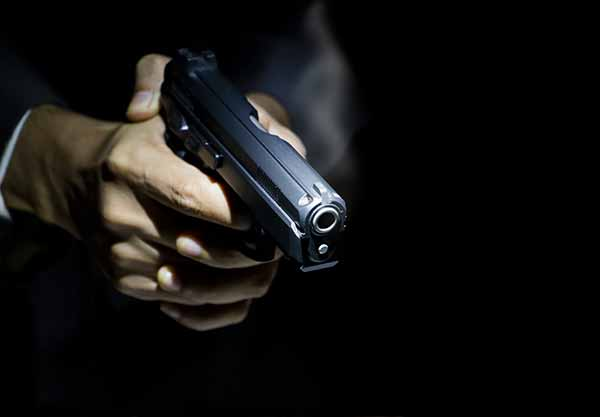Arma Real: (154, 46, 349, 276)
